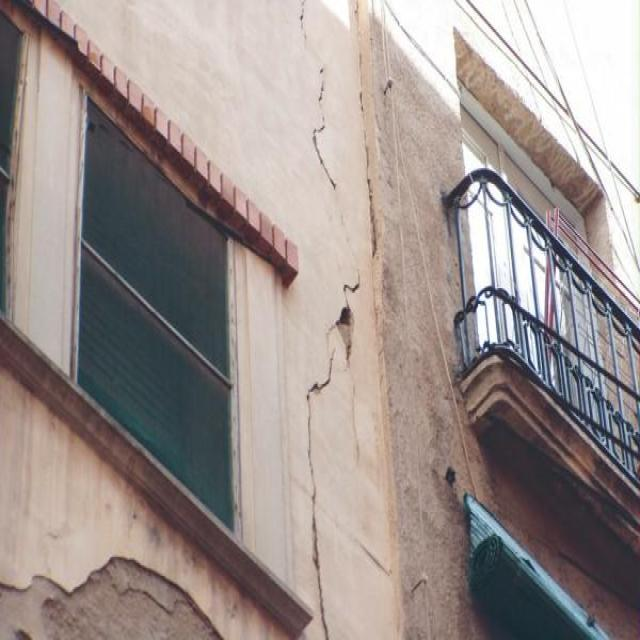crack: (312, 75, 339, 191), (299, 1, 309, 52)
